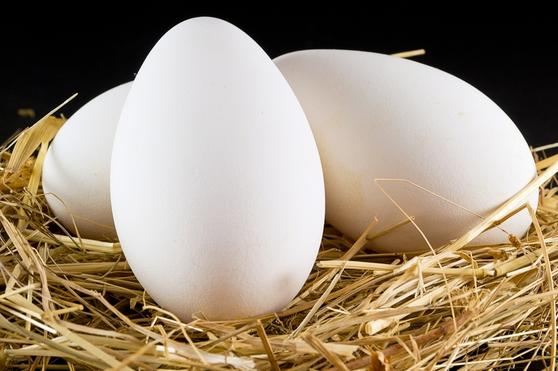egg: (115, 15, 317, 312)
